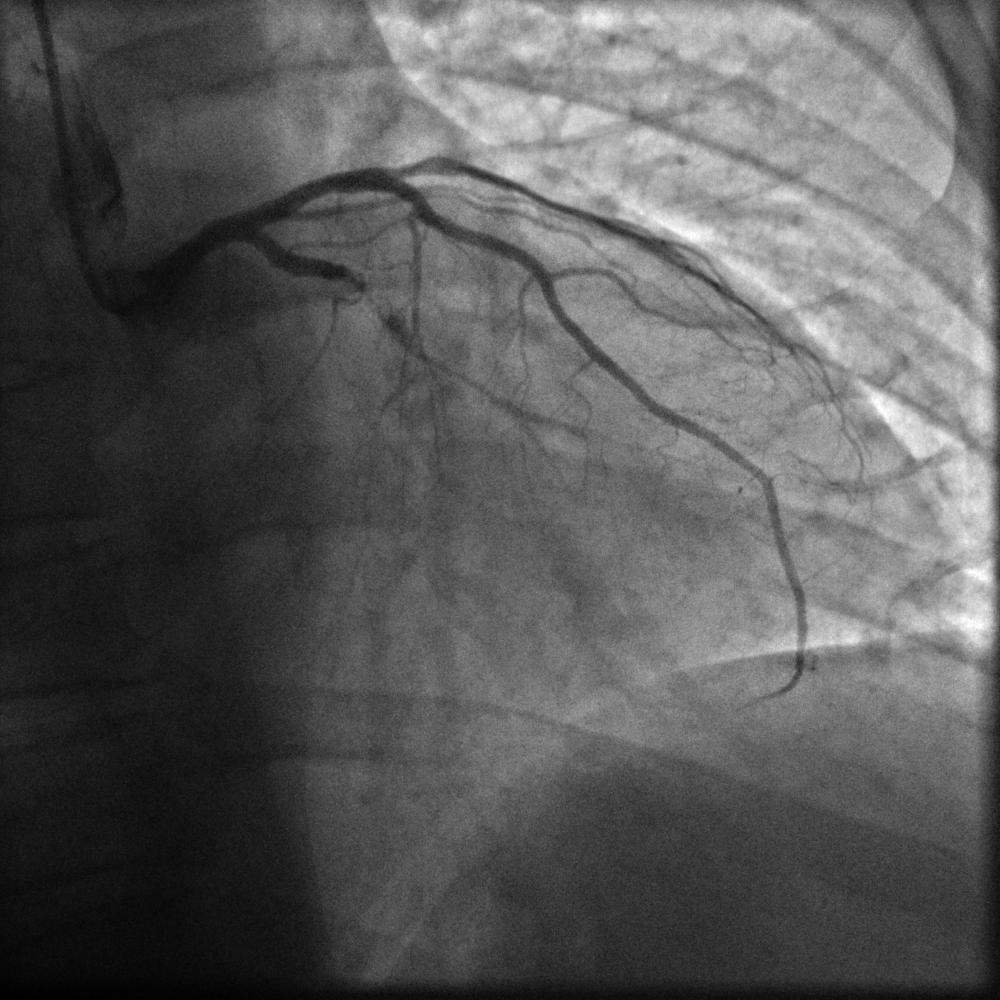Stenosis: (334, 258, 395, 320)
